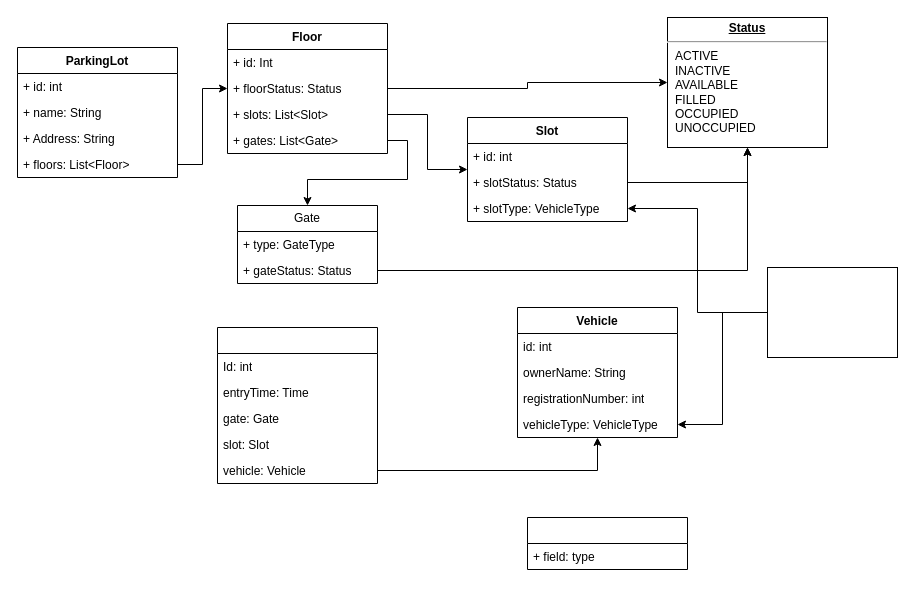
Some shapes in this 915 by 590 pixel diagram are drawn without their labels. Here are the shapes that lost their labels. From the top down, the box of each, then its label:
(766, 266, 898, 358): VehicleType CAR SCOOTER TRUCK
(216, 326, 378, 484): Token
(526, 516, 688, 570): Payment
